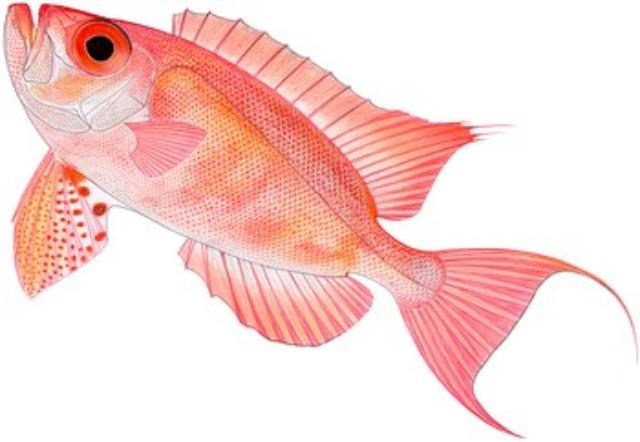Mulut: (2, 0, 62, 84)
Sirip Anal: (177, 230, 379, 360)
Sirip Dada: (128, 112, 216, 182)
Sirip Ekor: (400, 231, 628, 435)
Sirip Perut: (14, 150, 110, 298)
Sirip Punggung: (171, 9, 491, 228)
